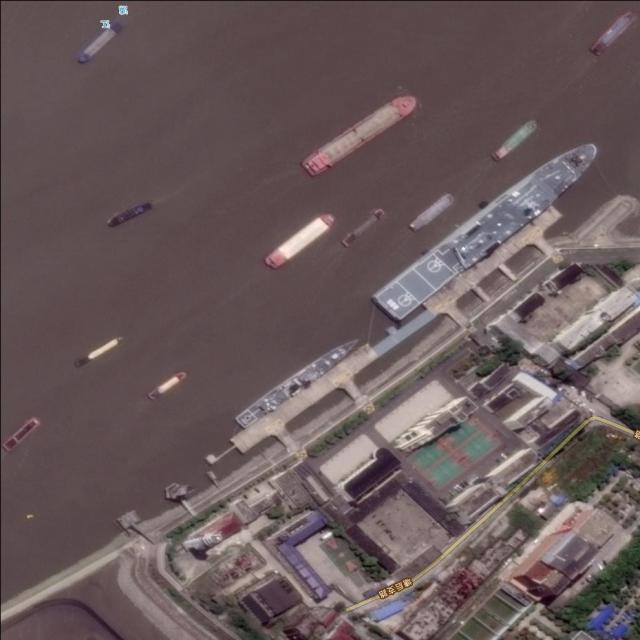Cargo: (302, 87, 422, 180), (260, 208, 340, 273), (76, 17, 127, 67), (339, 204, 389, 250), (588, 12, 637, 57), (490, 118, 540, 162), (407, 191, 456, 235), (72, 332, 125, 372), (1, 413, 44, 453), (147, 367, 191, 404), (104, 199, 155, 229)
Frigate: (234, 329, 363, 431)
Landing: (371, 122, 606, 328)
